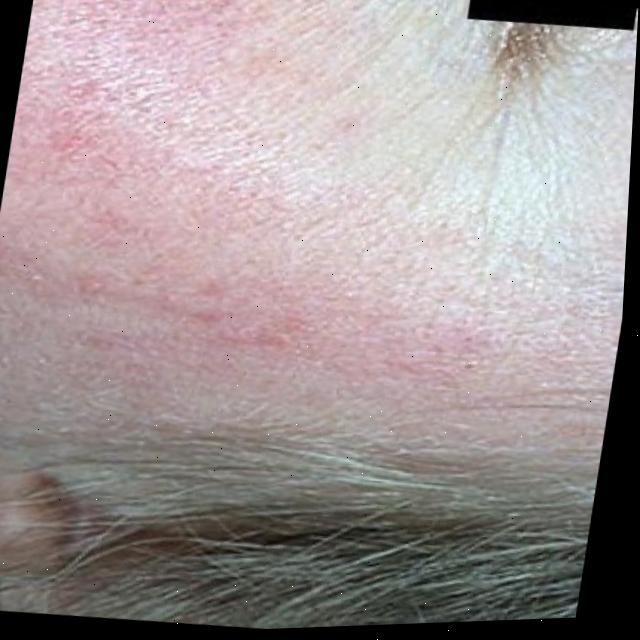Rosacea: (0, 75, 355, 417)
